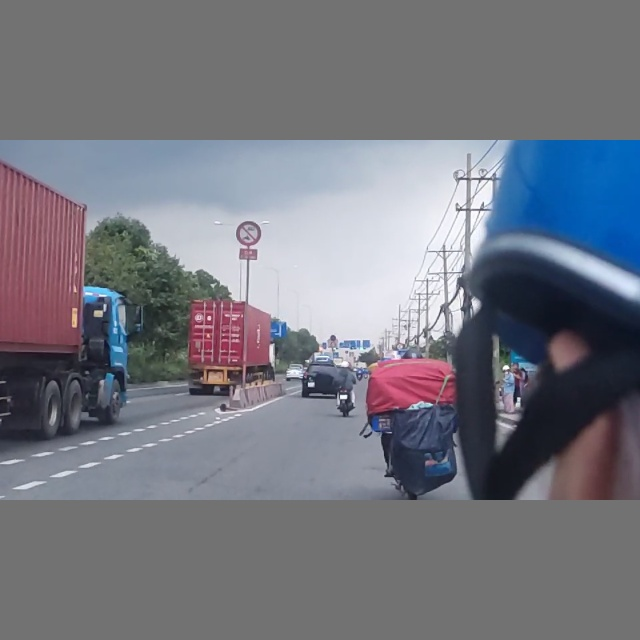P.111: (237, 221, 262, 246)
